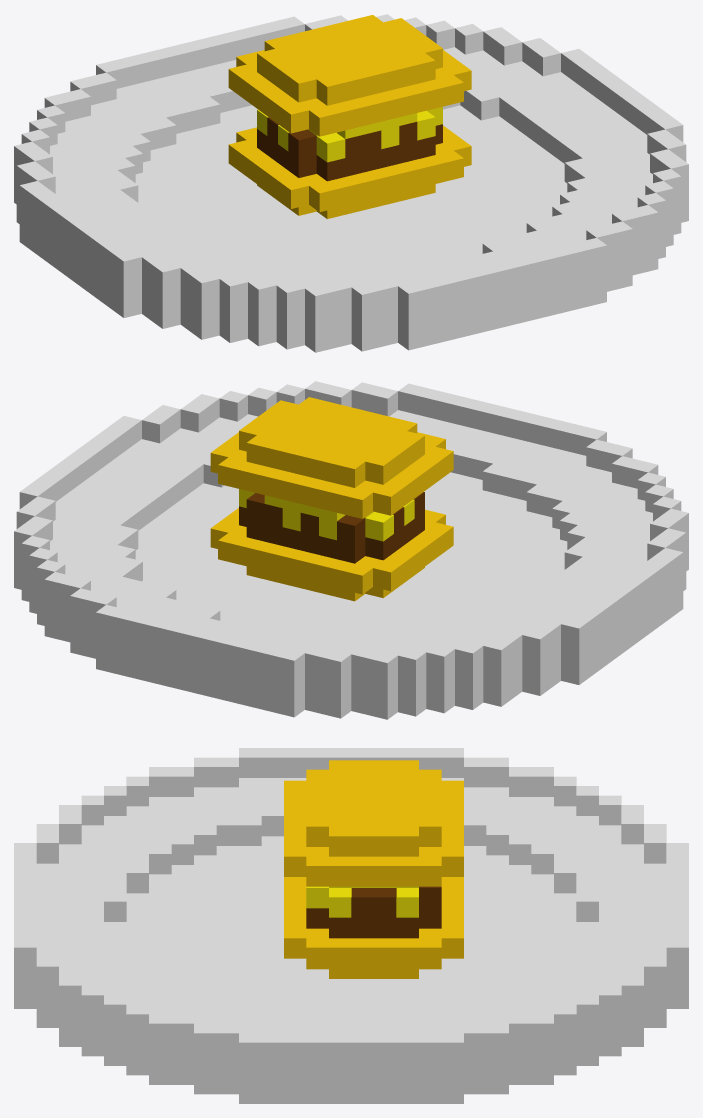
The model's file is hamb_carne_queso.obj.
3 renders of one model, top to bottom at view 1: azimuth 30°, elevation 25°; view 2: azimuth 150°, elevation 25°; view 3: azimuth 270°, elevation 25°, orthographic. The views are drawn at different scales.
Size of the model in its own units: 3.1 by 1 by 3.
